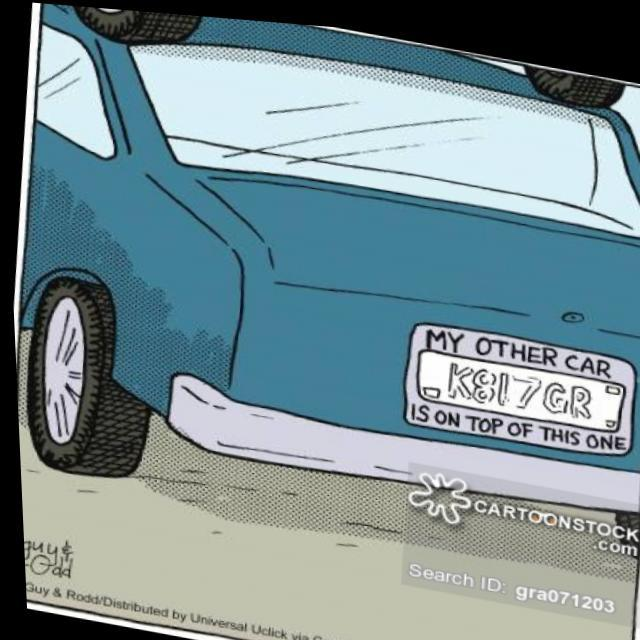license_plate: (412, 340, 606, 418)
